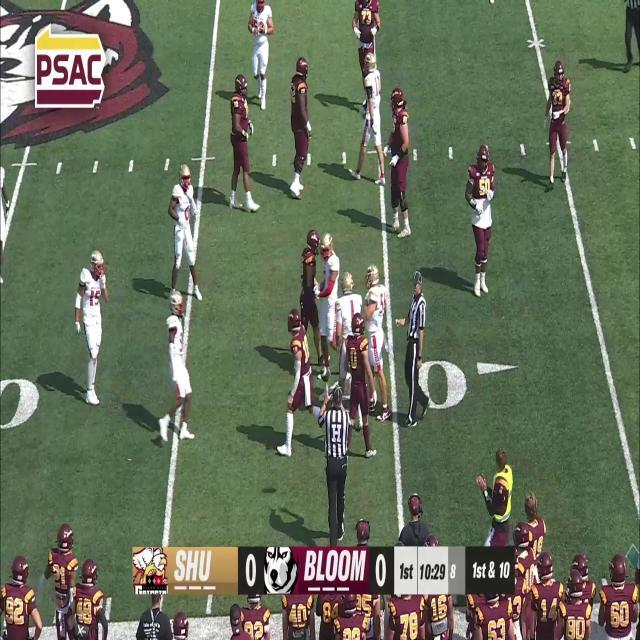football: (320, 366, 330, 382)
